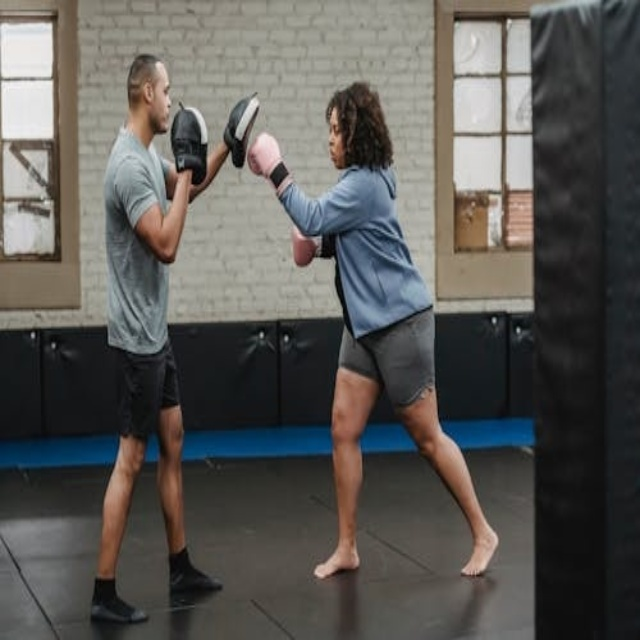Guantes: (163, 96, 210, 183), (223, 81, 257, 165), (289, 211, 332, 273), (247, 121, 285, 181)
Sin_gafas: (154, 79, 173, 100), (325, 117, 344, 135)
Sin_mascara: (152, 100, 173, 127), (326, 142, 346, 167)
